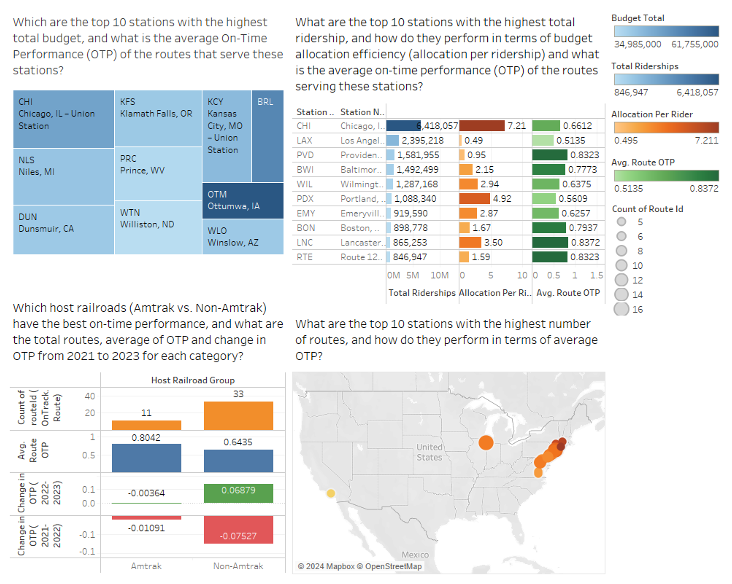

The dashboard page shown, as its layout file describes it:
{"tool":"tableau","page":{"name":"Amtrak OTP","canvas":[1000,800],"ordinal":0},"visuals":[{"type":"worksheet","title":"TOP 10 staions(Budget)","mark":"Automatic","box":[8,8,387,392]},{"type":"worksheet","title":"Top 10 Stations(Ridership)","mark":"Automatic","rows":["stationCode","stationName"],"cols":["Calculation_710442859358167055","Calculation_710442859357626379","routeOTP"],"box":[395,8,437,414]},{"type":"legend","title":"TOP 10 staions(Budget)","param":"[federated.07qf71c0obnvob10lkpon05cxk8n].[sum:budgetTotal:qk]","box":[832,8,160,65]},{"type":"legend","title":"Top 10 Stations(Ridership)","param":"[federated.07qf71c0obnvob10lkpon05cxk8n].[usr:Calculation_710442859358167055:qk]","box":[832,73,160,65]},{"type":"legend","title":"Top 10 Stations(Ridership)","param":"[federated.07qf71c0obnvob10lkpon05cxk8n].[usr:Calculation_710442859357626379:qk]","box":[832,138,160,65]},{"type":"legend","title":"Top 10 Stations(Ridership)","param":"[federated.07qf71c0obnvob10lkpon05cxk8n].[avg:routeOTP:qk]","box":[832,203,160,65]},{"type":"legend","title":"Top 10 Stations(Routes)","param":"[federated.07qf71c0obnvob10lkpon05cxk8n].[cnt:routeId:qk]","box":[832,268,160,166]},{"type":"worksheet","title":"Host Railroad Performance","mark":"Automatic","rows":["routeId (OnTrack.Route)","routeOTP","Calculation_622341194887843845","Calculation_622341194886991876"],"cols":["Calculation_356347338828075009"],"box":[8,400,387,392]},{"type":"worksheet","title":"Top 10 Stations(Routes)","mark":"Circle","box":[395,422,437,370]}]}

Visuals, with their boxes in screenshot pixels (x1, y1, x2, y2), scaled from the page's 1000x800 canvas onto the 732x584 screenshot:
"TOP 10 staions(Budget)" worksheet: <bbox>6, 6, 289, 292</bbox>
"Top 10 Stations(Ridership)" worksheet: <bbox>289, 6, 609, 308</bbox>
"TOP 10 staions(Budget)" legend: <bbox>609, 6, 726, 53</bbox>
"Top 10 Stations(Ridership)" legend: <bbox>609, 53, 726, 101</bbox>
"Top 10 Stations(Ridership)" legend: <bbox>609, 101, 726, 148</bbox>
"Top 10 Stations(Ridership)" legend: <bbox>609, 148, 726, 196</bbox>
"Top 10 Stations(Routes)" legend: <bbox>609, 196, 726, 317</bbox>
"Host Railroad Performance" worksheet: <bbox>6, 292, 289, 578</bbox>
"Top 10 Stations(Routes)" worksheet (Circle marks): <bbox>289, 308, 609, 578</bbox>
